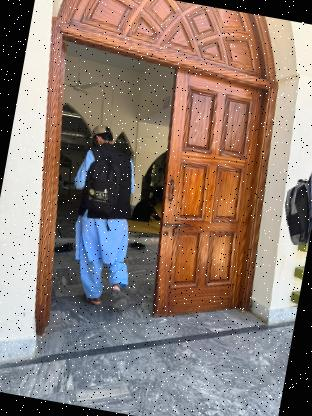door: (0, 0, 311, 383)
person: (45, 111, 161, 317)
